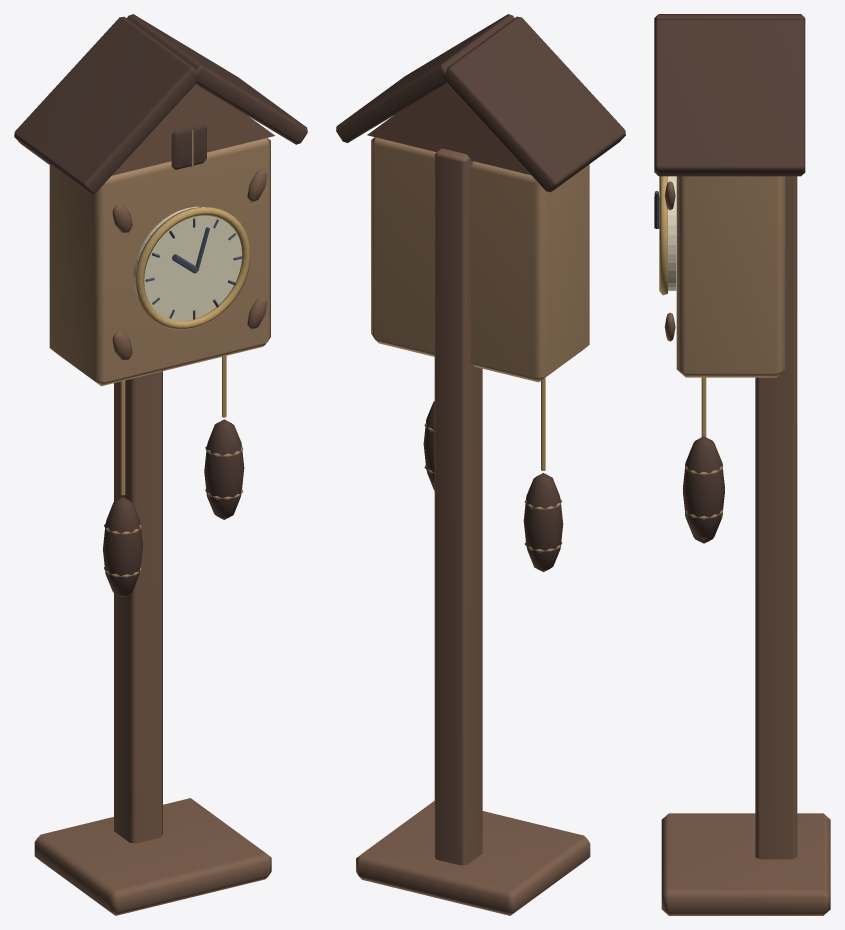
Rendered from cuckoo_clock.glb.
3 views of the same model, side by side, from view 1: azimuth 30°, elevation 25°; view 2: azimuth 150°, elevation 25°; view 3: azimuth 270°, elevation 25° (orthographic). The views are drawn at different scales.
Visible parts, largest first — view 1: Carved clock case, Slender wooden post, Carved roof eave, Post foot, Ivory clock dial, Gabled crown, Carved roof eave.001, Aged brass clock bezel, Carved pine cone weight.001, Carved pine cone weight, Closed cuckoo door, Fine pine cone chain; view 2: Carved clock case, Slender wooden post, Carved roof eave, Post foot, Gabled crown, Carved roof eave.001, Carved pine cone weight, Carved pine cone weight.001; view 3: Carved roof eave.001, Slender wooden post, Carved clock case, Post foot, Carved pine cone weight.001, Aged brass clock bezel, Ivory clock dial, Carved roof eave.
Part boxes in pixels (bbox=[...]): Carved clock case: bbox=[49, 138, 270, 386]; Slender wooden post: bbox=[114, 371, 162, 843]; Carved roof eave: bbox=[14, 16, 199, 194]; Post foot: bbox=[34, 798, 271, 915]; Ivory clock dial: bbox=[134, 206, 241, 321]; Gabled crown: bbox=[112, 84, 274, 175]; Carved roof eave.001: bbox=[127, 14, 307, 144]; Aged brass clock bezel: bbox=[135, 207, 250, 329]; Carved pine cone weight.001: bbox=[204, 419, 244, 519]; Carved pine cone weight: bbox=[103, 497, 142, 597]; Closed cuckoo door: bbox=[171, 123, 206, 169]; Fine pine cone chain: bbox=[120, 380, 125, 495]; Carved clock case: bbox=[371, 137, 589, 382]; Slender wooden post: bbox=[434, 148, 482, 865]; Carved roof eave: bbox=[443, 16, 625, 192]; Post foot: bbox=[356, 801, 590, 915]; Gabled crown: bbox=[367, 83, 530, 174]; Carved roof eave.001: bbox=[336, 14, 514, 142]; Carved pine cone weight: bbox=[523, 473, 563, 572]; Carved pine cone weight.001: bbox=[423, 401, 434, 490]; Carved roof eave.001: bbox=[654, 19, 805, 176]; Slender wooden post: bbox=[755, 176, 797, 859]; Carved clock case: bbox=[676, 176, 785, 377]; Post foot: bbox=[661, 813, 830, 915]; Carved pine cone weight.001: bbox=[683, 436, 724, 539]; Aged brass clock bezel: bbox=[659, 176, 667, 295]; Ivory clock dial: bbox=[668, 176, 676, 290]; Carved roof eave: bbox=[654, 14, 805, 22].
Bounding box in the file's own units: 0.4429 × 1.57 × 0.2922.
